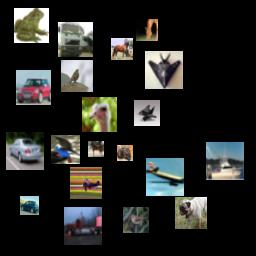airplane: (146, 158, 184, 196), (145, 51, 183, 89), (70, 167, 102, 199), (134, 100, 160, 126)
automobile: (6, 132, 44, 170), (16, 70, 51, 105), (20, 196, 39, 215)
bird: (82, 97, 117, 132), (61, 60, 93, 92), (51, 135, 80, 164), (123, 207, 149, 233)
cat: (117, 145, 133, 161)
dog: (175, 197, 207, 229)
frog: (14, 8, 49, 43)
ship: (206, 142, 244, 180)
truck: (64, 207, 102, 245), (58, 22, 93, 57)
